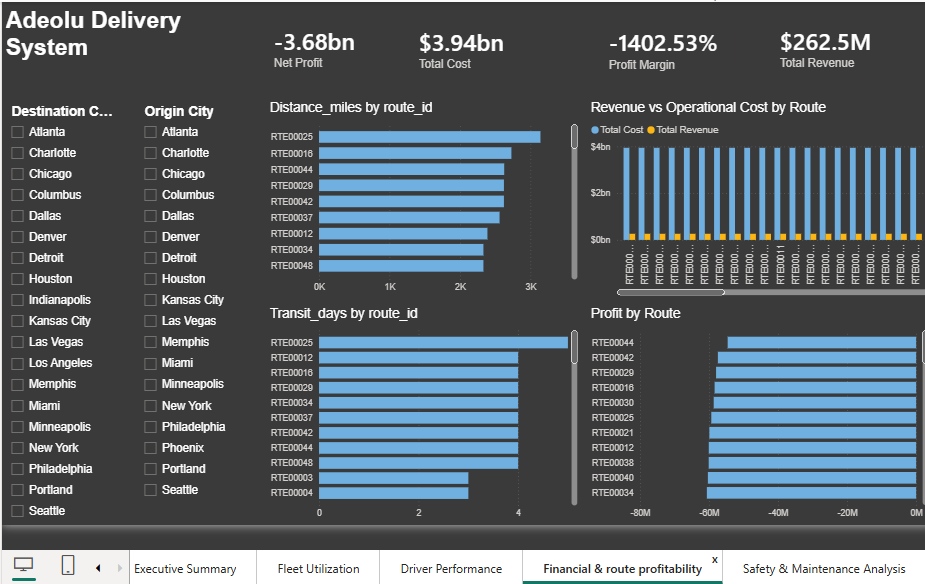

This screenshot's page, from the dashboard's own definition file:
{"tool":"powerbi","page":{"name":"Financial & route profitability","canvas":[1280,720],"ordinal":3},"visuals":[{"type":"cardVisual","title":"Total operating cost","fields":{"Data":["key_metrics.Total Cost"]},"box":[543.7,1.4,253.2,122.5],"z":0},{"type":"cardVisual","fields":{"Data":["key_metrics.Profit Margin"]},"box":[805.2,2.8,223,121.1],"z":1000},{"type":"cardVisual","fields":{"Data":["key_metrics.Total Revenue"]},"box":[1040.5,1.4,239.5,119.7],"z":2000},{"type":"slicer","fields":{"Values":["routes.origin_city"]},"box":[183.1,134.9,170.7,584.9],"z":3000},{"type":"slicer","fields":{"Values":["routes.destination_city"]},"box":[0,134.9,173.4,584.9],"z":4000},{"type":"clusteredBarChart","title":"Distance_miles by route_id","fields":{"Category":["routes.route_id"],"Y":["Sum(routes.typical_distance_miles)"]},"box":[363.4,134.9,433.5,273.9],"z":5000},{"type":"clusteredBarChart","title":"Transit_days by route_id","fields":{"Category":["routes.route_id"],"Y":["Sum(routes.typical_transit_days)"]},"box":[363.4,418.4,433.5,301.4],"z":6000},{"type":"clusteredColumnChart","title":"Revenue vs Operational Cost by Route","fields":{"Category":["routes.route_id"],"Y":["key_metrics.Total Cost","key_metrics.Total Revenue"]},"box":[805.2,134.9,474.8,273.9],"z":7000},{"type":"cardVisual","fields":{"Data":["key_metrics.Net Profit"]},"box":[344.1,0,189.9,123.9],"z":8000},{"type":"barChart","title":"Profit by Route","fields":{"Y":["key_metrics.Route Profit"],"Category":["loads.route_id"]},"box":[805,418,475,301],"z":9000},{"type":"textbox","box":[0,1.4,344.1,119.7],"z":9001}]}

Visuals, with their boxes on the page's 1280x720 design canvas (x1, y1, x2, y2). These are canvas units, not pixel positions in the 925x584 screenshot, which may show the page scaled, cropped or inside an application window:
"Total operating cost" cardVisual: left=544, top=1, right=797, bottom=124
cardVisual - key_metrics.Profit Margin: left=805, top=3, right=1028, bottom=124
cardVisual - key_metrics.Total Revenue: left=1040, top=1, right=1280, bottom=121
slicer - routes.origin_city: left=183, top=135, right=354, bottom=720
slicer - routes.destination_city: left=0, top=135, right=173, bottom=720
"Distance_miles by route_id" clusteredBarChart: left=363, top=135, right=797, bottom=409
"Transit_days by route_id" clusteredBarChart: left=363, top=418, right=797, bottom=720
"Revenue vs Operational Cost by Route" clusteredColumnChart: left=805, top=135, right=1280, bottom=409
cardVisual - key_metrics.Net Profit: left=344, top=0, right=534, bottom=124
"Profit by Route" barChart: left=805, top=418, right=1280, bottom=719
textbox: left=0, top=1, right=344, bottom=121
